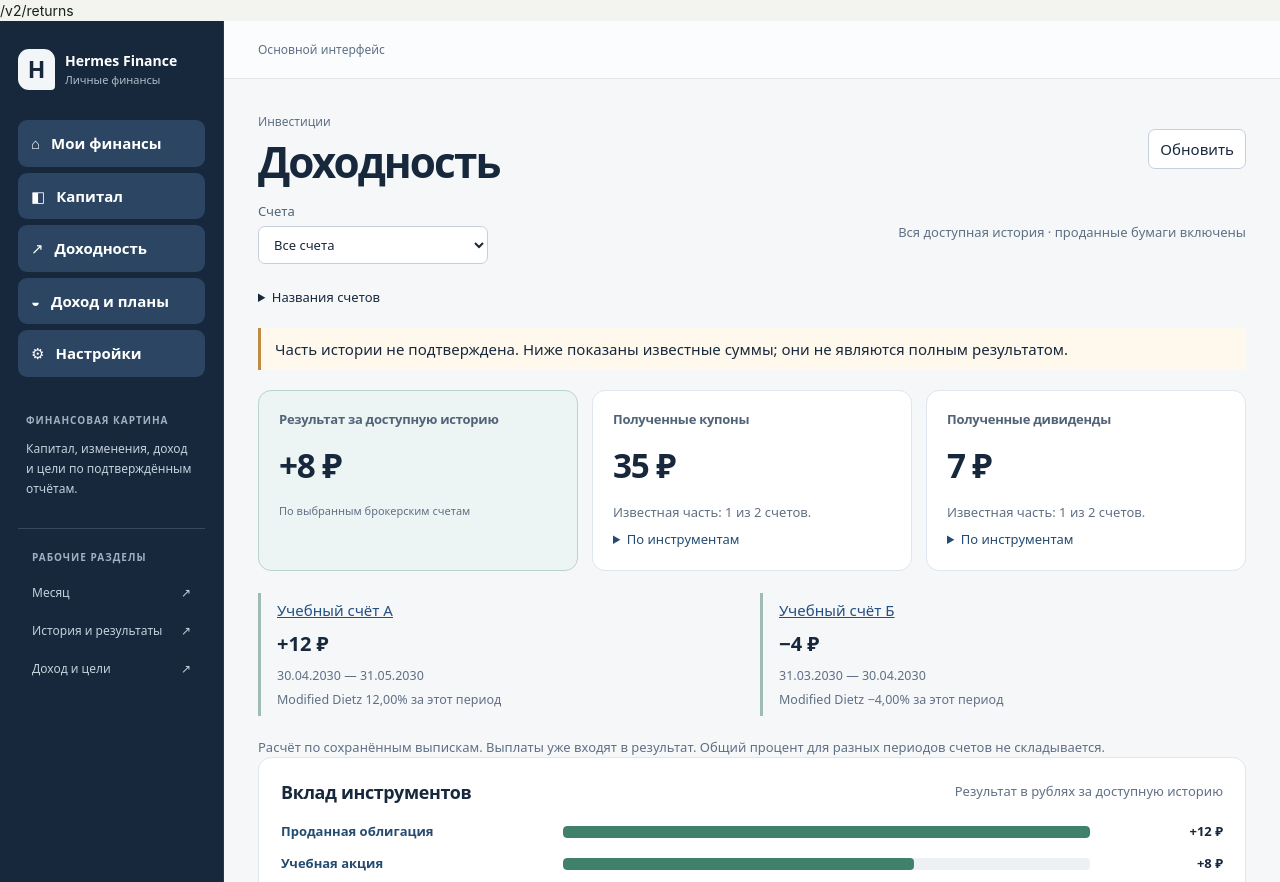
Test: one account selection uses its own period and rate without averaging siblings
This screenshot has width=1280, height=882.
Check: the element "Результат" is shown, box x1=258 y1=390 x2=578 y2=571
Select "Учебный счёт Б" in the dropdown labelled "Счета" at (373, 245), box x1=258 y1=226 x2=488 y2=264
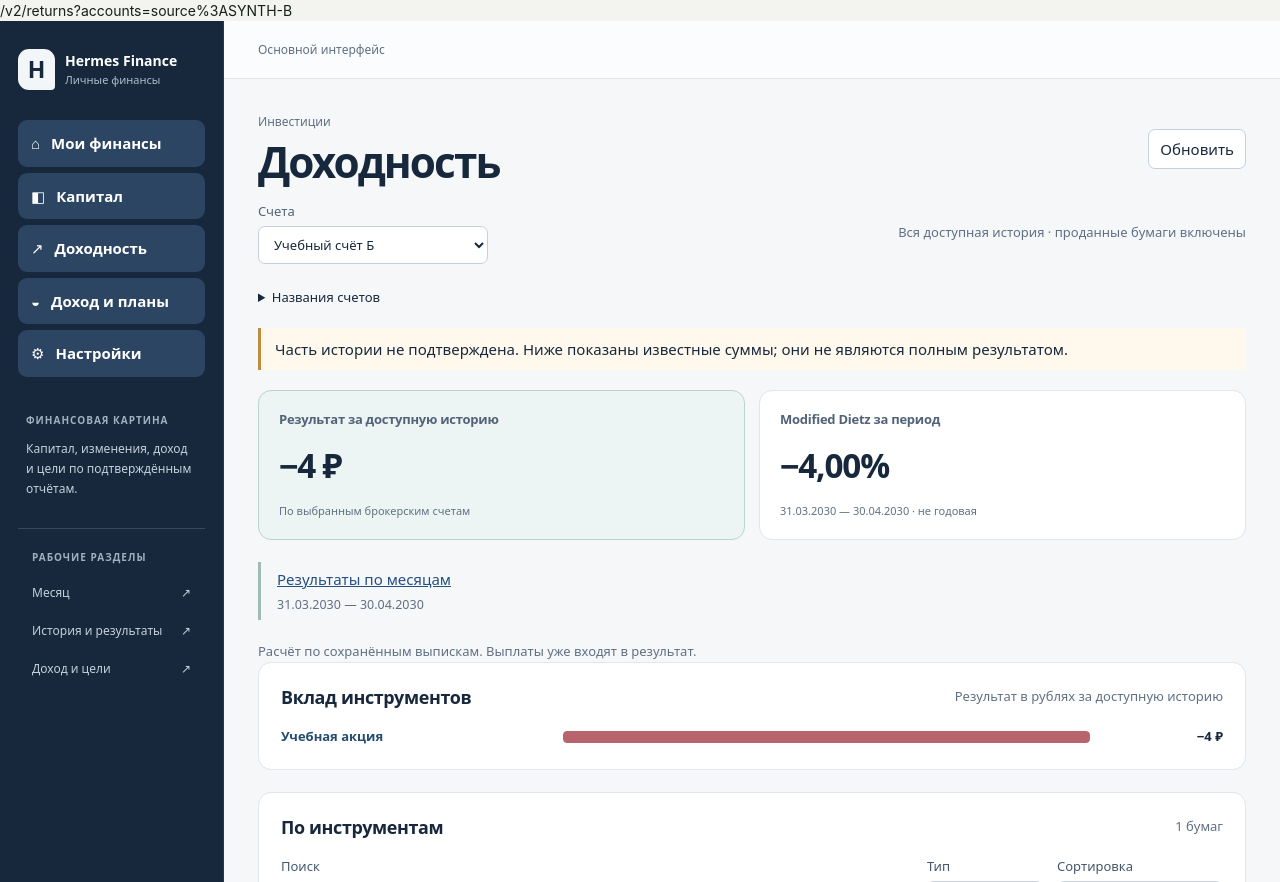
Check: the element "Результат" shows "−4 ₽", box x1=279 y1=442 x2=341 y2=488
Check: the element named "Доходность периода" shows "−4,00%", box x1=780 y1=442 x2=889 y2=488
Check: the element named "Доходность периода" shows "31.03.2030 — 30.04.2030", box x1=780 y1=503 x2=909 y2=518
